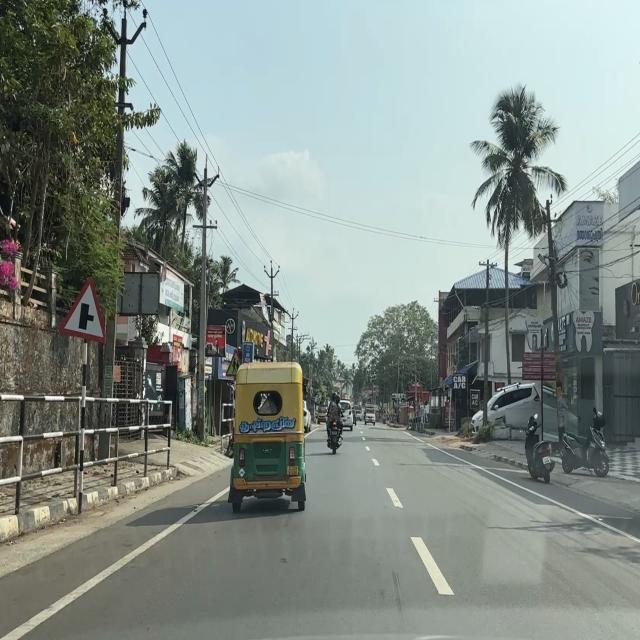SIDE_ROAD_RIGHT: (58, 274, 108, 347)
